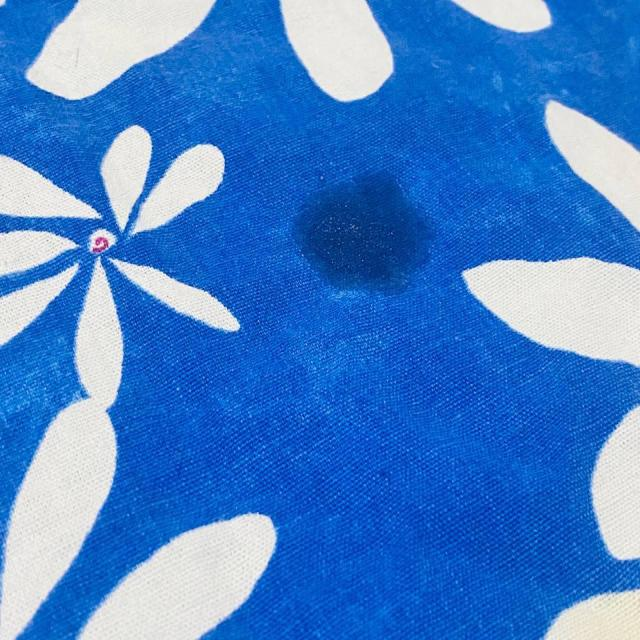stain: (286, 162, 442, 298)
